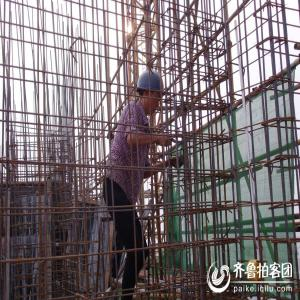blue: (137, 71, 165, 113)
